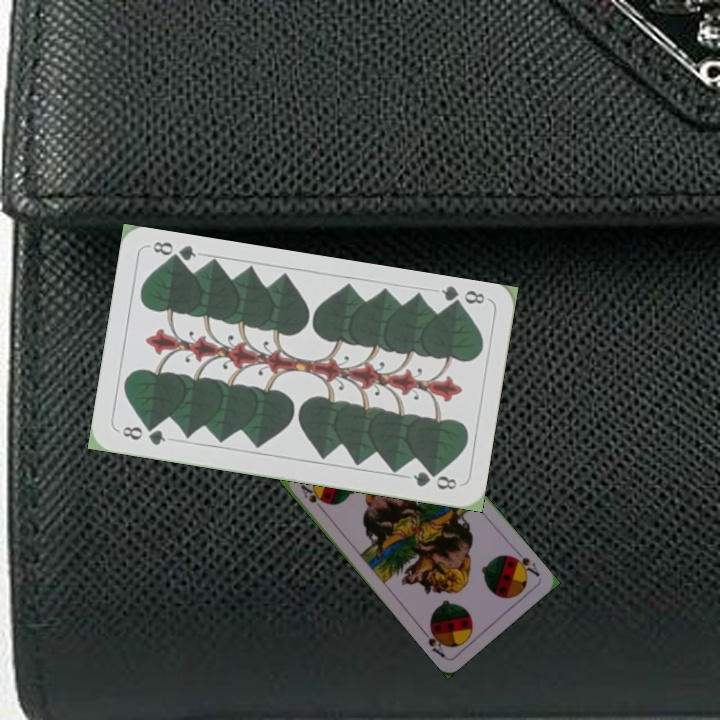G8: (437, 282, 487, 313), (118, 422, 169, 448)
SA: (507, 546, 543, 579), (296, 481, 328, 515)
